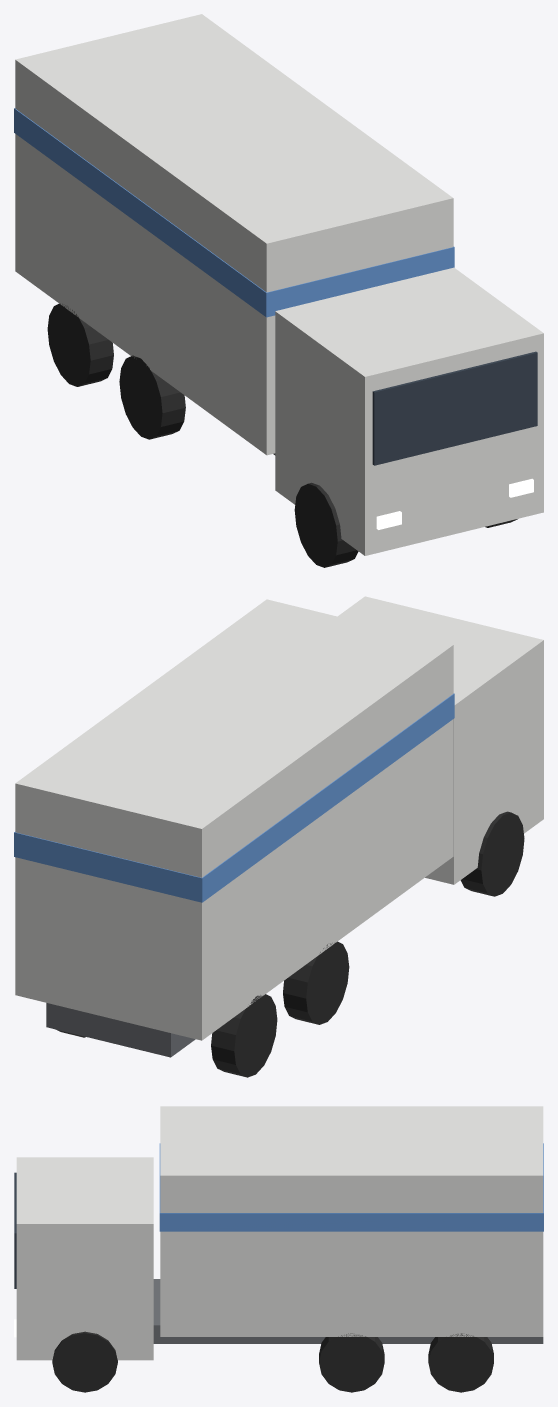
File: box_truck.glb
3 renders of one model, top to bottom at view 1: azimuth 30°, elevation 25°; view 2: azimuth 150°, elevation 25°; view 3: azimuth 270°, elevation 25°, orthographic. The views are drawn at different scales.
Visible parts, largest first — view 1: box_truck; view 2: box_truck; view 3: box_truck.
Part boxes in pixels (bbox=[...]): box_truck: bbox=[14, 14, 543, 567]; box_truck: bbox=[14, 596, 543, 1077]; box_truck: bbox=[14, 1106, 543, 1392].
Size of the model in its own units: 2.42 by 3.5 by 7.75.
